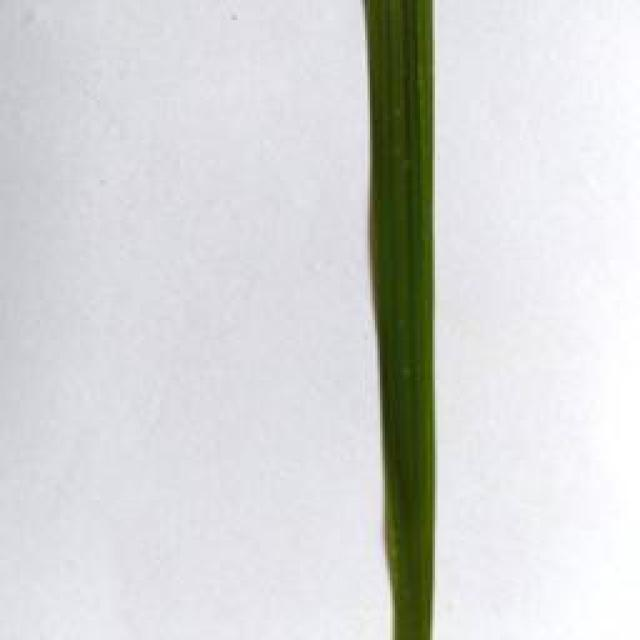Healthy-Plant: (365, 0, 435, 640)
